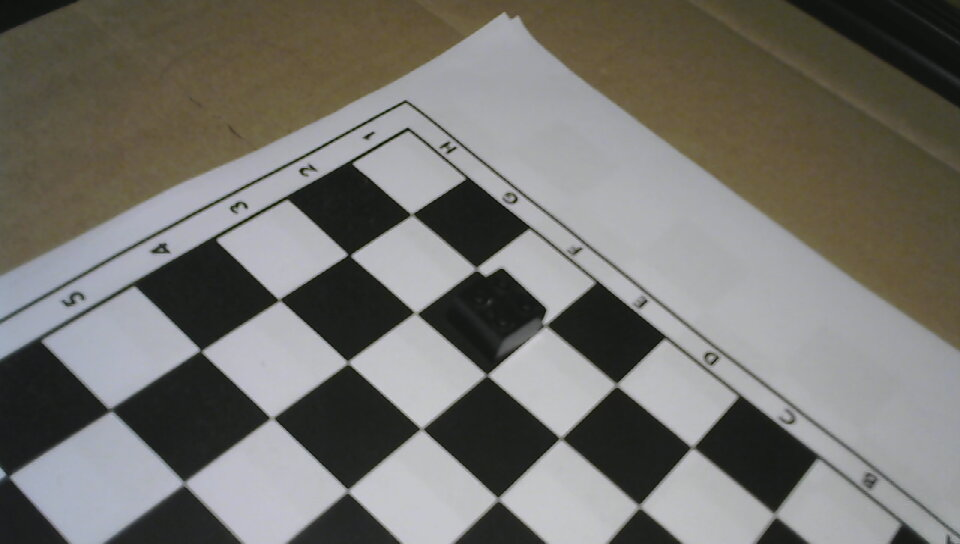bp: (446, 260, 552, 365)
